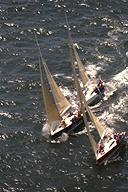sailboat: (31, 32, 86, 144), (69, 58, 120, 168), (62, 10, 107, 109)
water: (1, 2, 33, 190), (2, 142, 86, 191)
